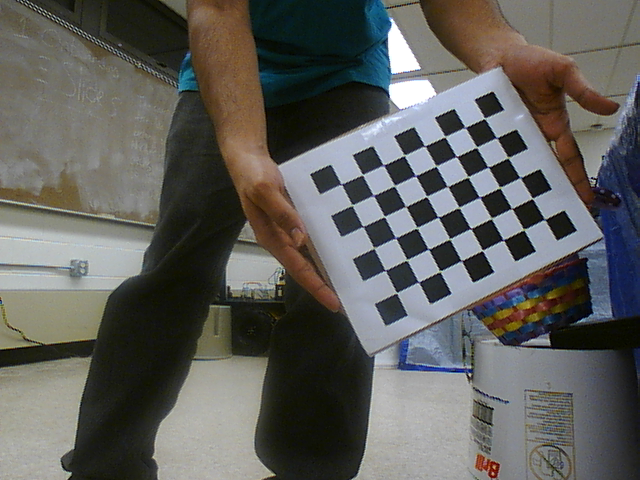bunny: (465, 243, 599, 353)
